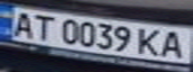0: (54, 16, 81, 45), (75, 19, 96, 48)
3: (93, 21, 115, 52)
9: (112, 24, 136, 53)
A: (157, 28, 190, 60), (6, 8, 39, 38)
K: (136, 25, 166, 57)
T: (27, 12, 57, 41)
